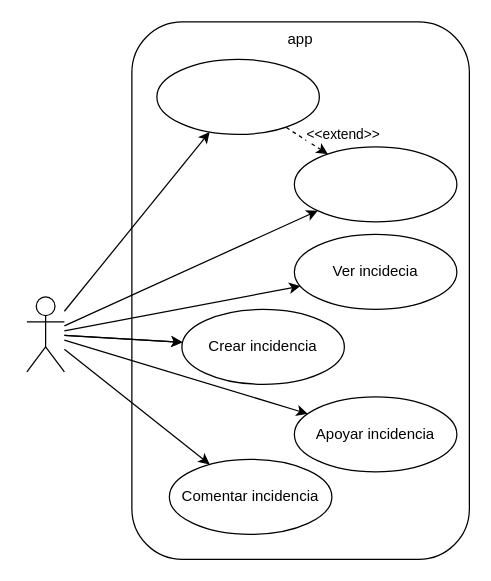
Image size: 491x581. Some labels were removed from this diagram. The box of each missing label's shape, as (x1, y1, x2, y2) in pixels:
Iniciar sesión: (293, 146, 457, 222)
Registrarse: (156, 58, 319, 134)
usuario: (26, 296, 64, 372)
